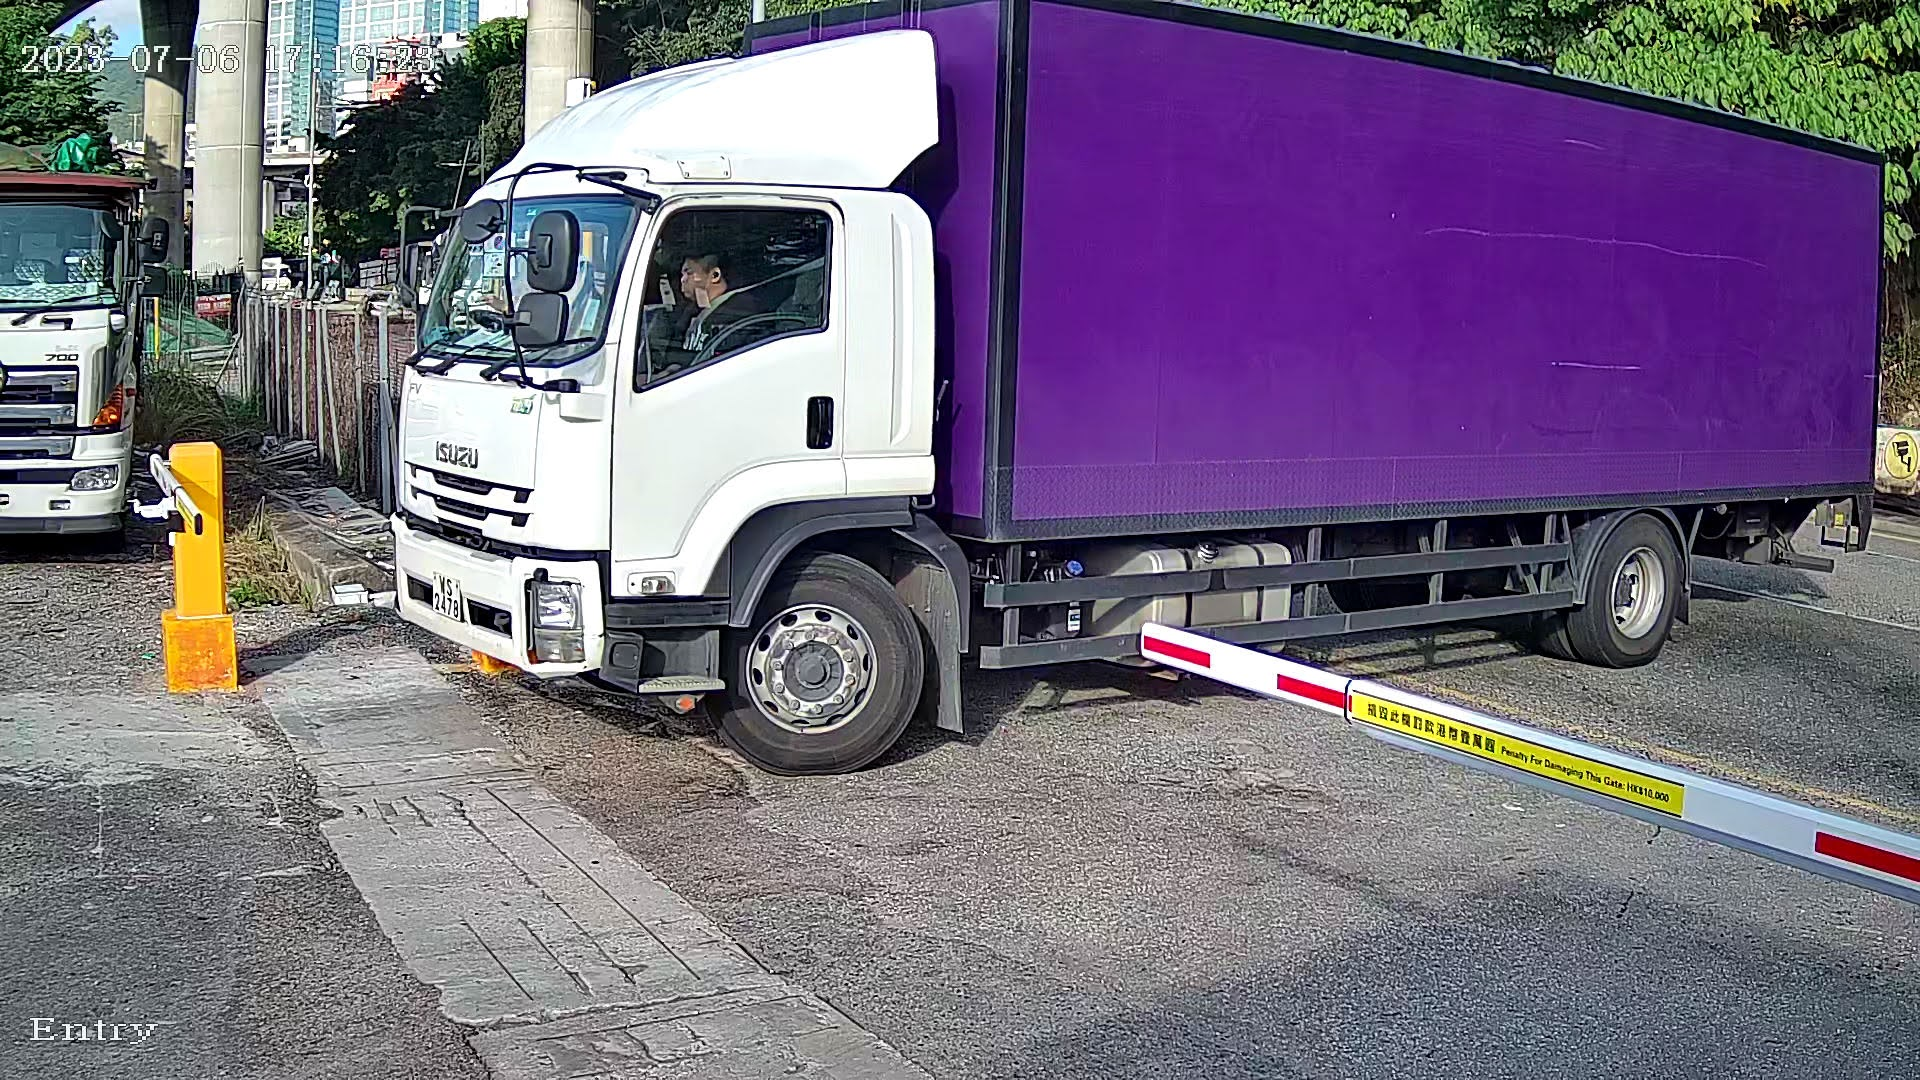truck_large: (356, 1, 1904, 735)
